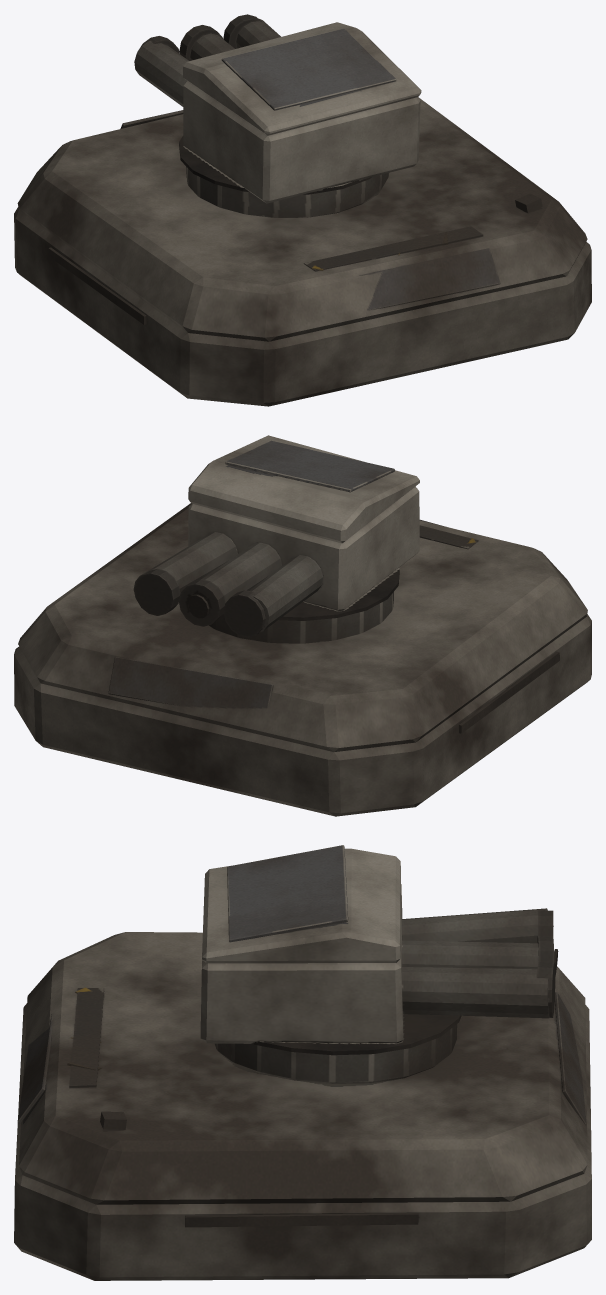
File: ord_undertow_wreck.fbx
3 renders of one model, top to bottom at view 1: azimuth 30°, elevation 25°; view 2: azimuth 150°, elevation 25°; view 3: azimuth 270°, elevation 25°, orthographic. The views are drawn at different scales.
Parts seen in each view (by area): view 1: base_bar, launcher_bar, turret_bar; view 2: base_bar, launcher_bar, turret_bar; view 3: base_bar, launcher_bar, turret_bar.
Part boxes in pixels (box(x1,y1,x2,y2)): base_bar: box(14, 97, 591, 406); launcher_bar: box(134, 14, 421, 203); turret_bar: box(179, 136, 388, 217); base_bar: box(14, 503, 591, 816); launcher_bar: box(133, 435, 419, 637); turret_bar: box(209, 567, 399, 643); base_bar: box(14, 932, 591, 1280); launcher_bar: box(200, 845, 558, 1043); turret_bar: box(215, 1014, 461, 1083).
Size of the model in its own units: 751 by 515 by 756.
2 materials, 2 textured.
